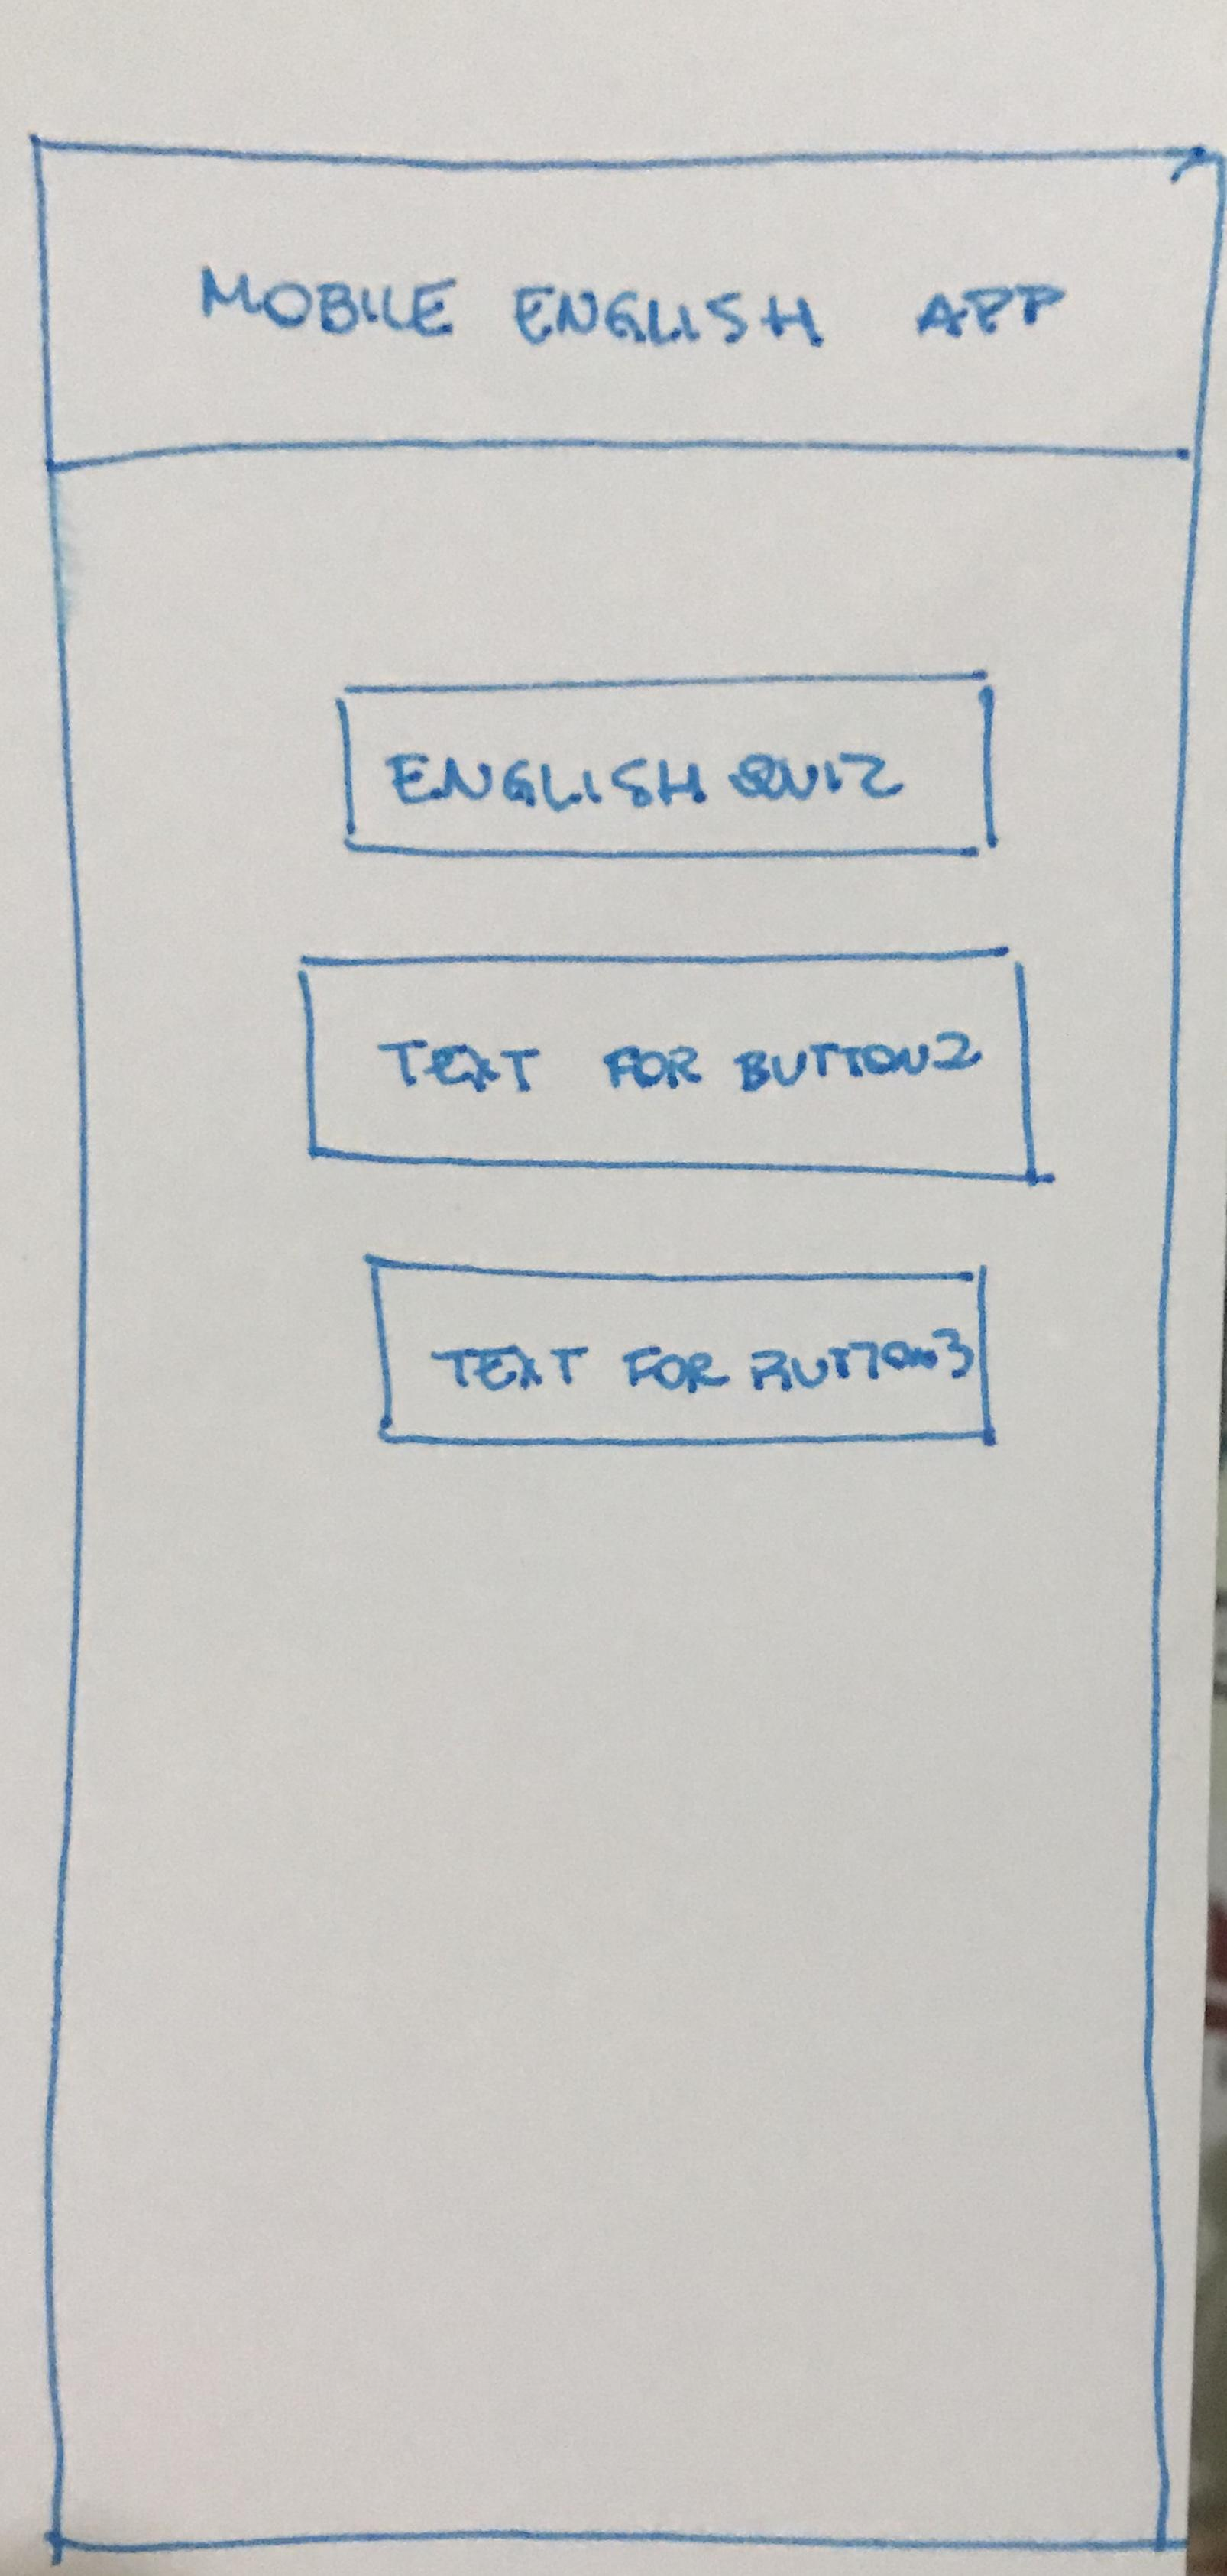Button: (296, 951, 1040, 1183), (337, 669, 1002, 859), (366, 1253, 999, 1449)
Label: (194, 253, 1076, 370)
Screen: (33, 125, 1224, 2560)
